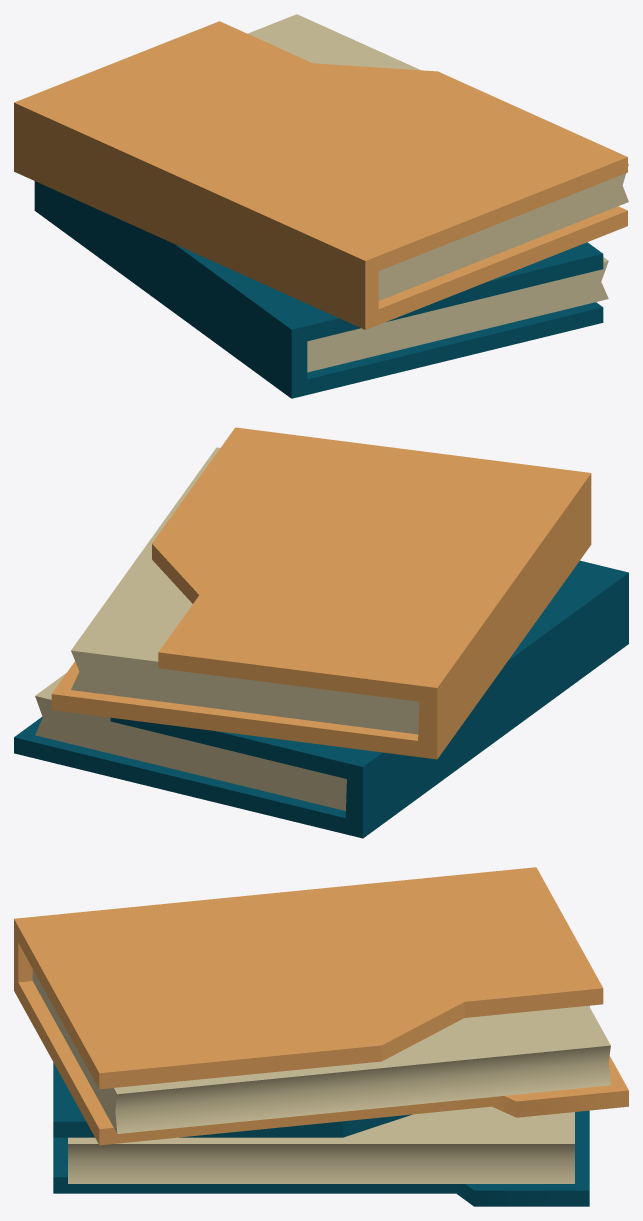
File: SM_Folders_A_GRP_07.fbx
3 renders of one model, top to bottom at view 1: azimuth 30°, elevation 25°; view 2: azimuth 150°, elevation 25°; view 3: azimuth 270°, elevation 25°, orthographic. The views are drawn at different scales.
Visible parts, largest first — view 1: SM_Folders_A_GRP_07; view 2: SM_Folders_A_GRP_07; view 3: SM_Folders_A_GRP_07.
Boxes of the visible parts, bbox=[...] form: SM_Folders_A_GRP_07: bbox=[14, 14, 628, 398]; SM_Folders_A_GRP_07: bbox=[14, 427, 628, 838]; SM_Folders_A_GRP_07: bbox=[14, 867, 628, 1206].
Size of the model in its own units: 27.92 by 8.89 by 34.39.
